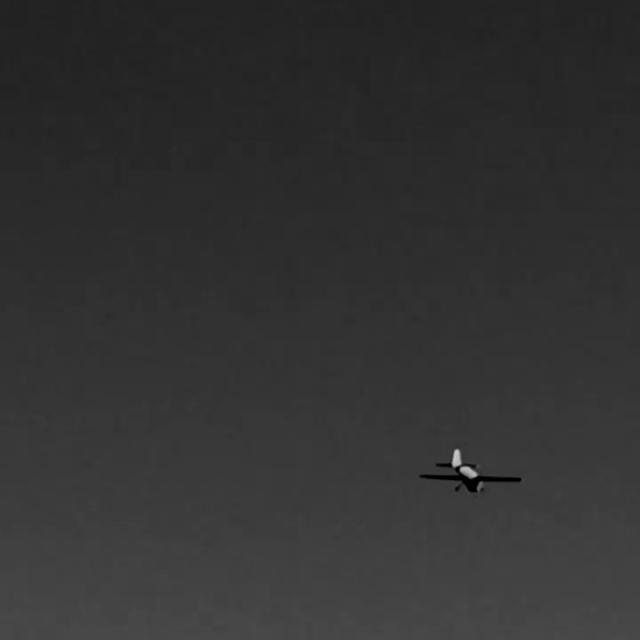iha: (446, 472, 492, 476)
